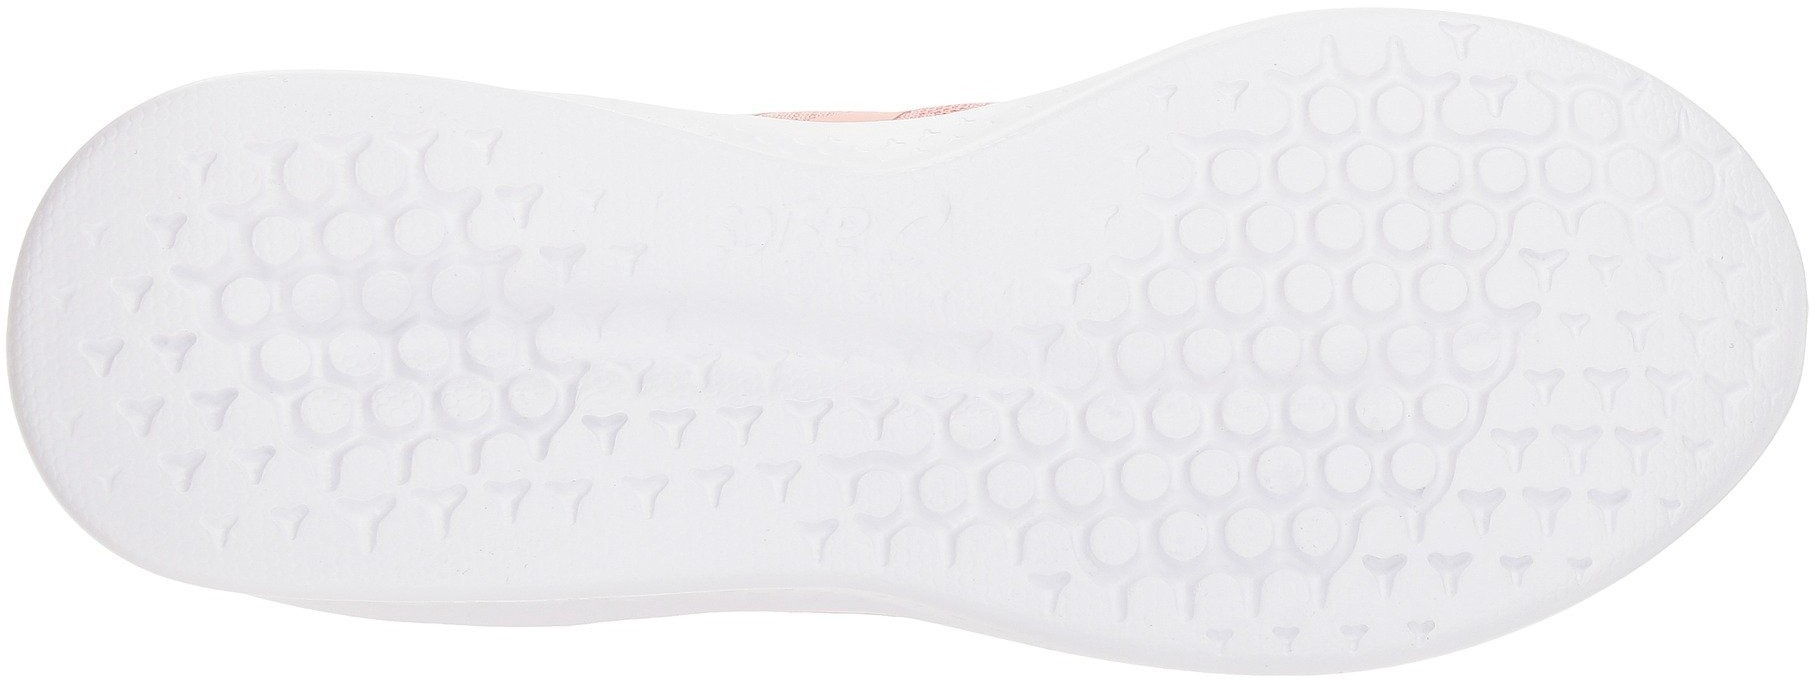circle: (1060, 378, 1299, 633), (1238, 154, 1477, 392), (257, 154, 471, 392), (1434, 6, 1599, 159), (891, 408, 1046, 560), (730, 171, 864, 281)
polygon: (1617, 101, 1789, 248)
star: (1567, 241, 1745, 426), (67, 215, 240, 388), (1434, 6, 1599, 159), (1480, 436, 1639, 575), (98, 383, 249, 524), (586, 409, 718, 518)
text: (730, 171, 864, 281)
triangle: (67, 215, 240, 388)
